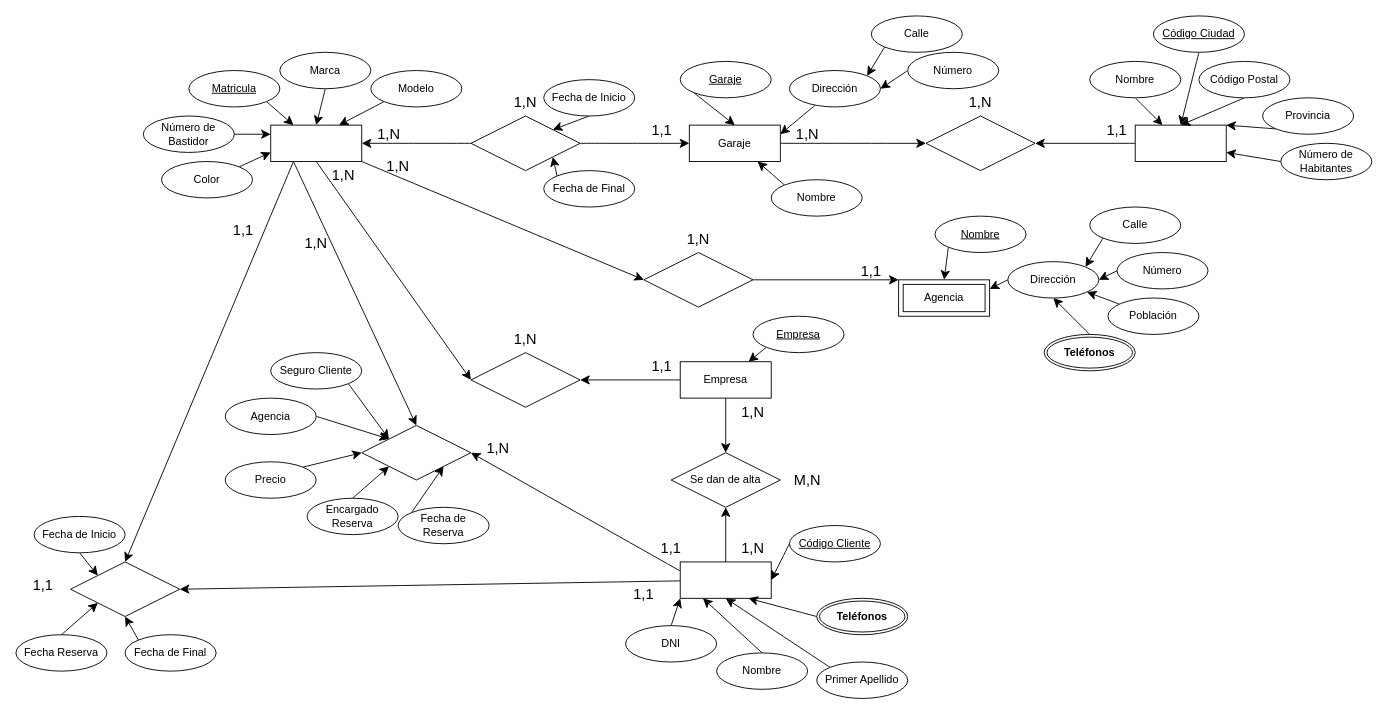
Some shapes in this 1388 by 714 pixel diagram are drawn without their labels. Each missing label, with the centre of its shape:
"Ciudad" goes at pixel 1180 143.
"Cliente" goes at pixel 725 579.
"esta situado" goes at pixel 980 143.
"Moto" goes at pixel 316 143.
"pertenece" goes at pixel 525 379.
"puede alquilar" goes at pixel 125 589.
"puede reservar" goes at pixel 416 452.
"se asigna" goes at pixel 698 279.
"Se guardan" goes at pixel 525 143.
